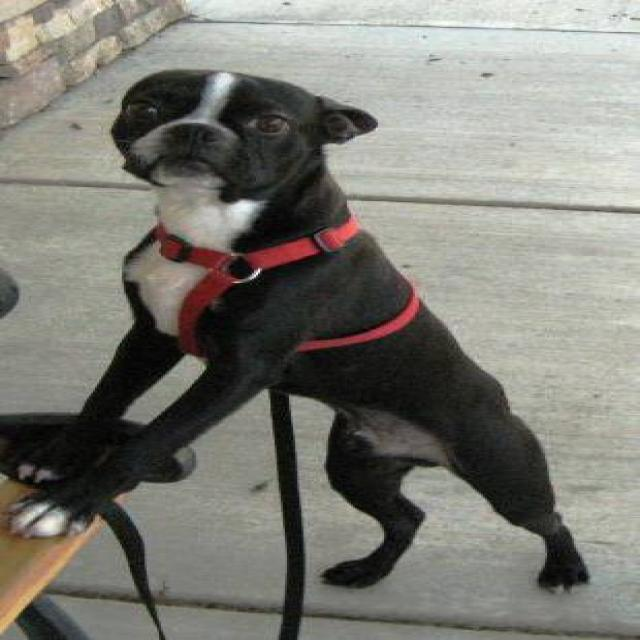dog: (26, 53, 594, 640)
